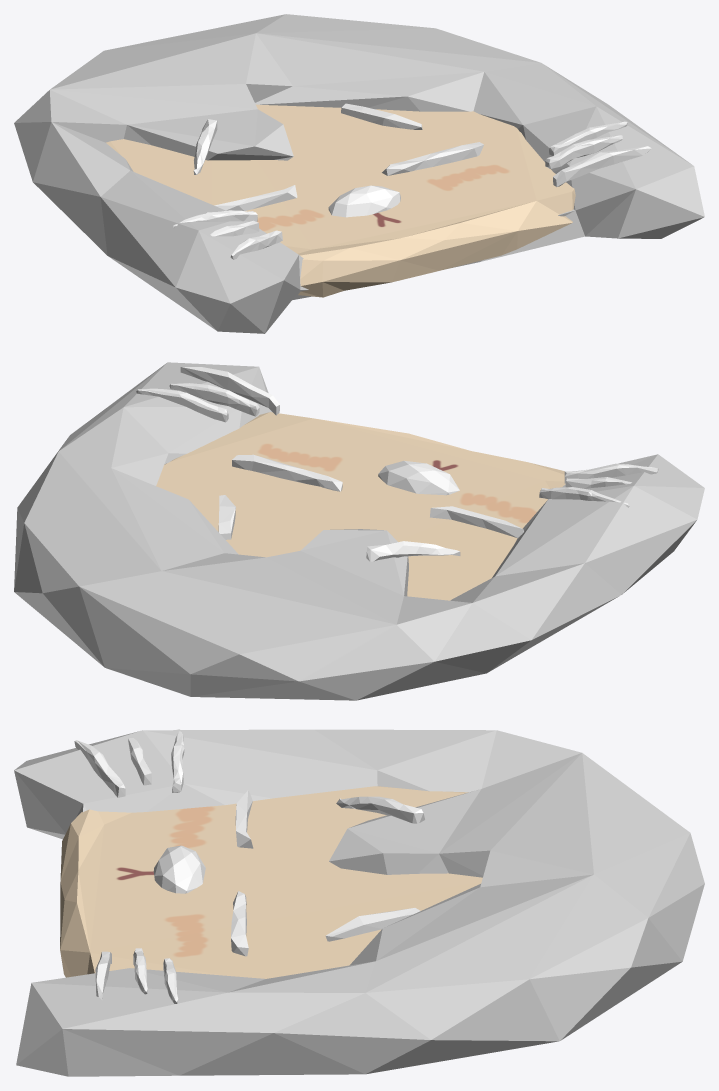
Rendered from jumang.gltf.
3 views of the same model, one above another, from view 1: azimuth 30°, elevation 25°; view 2: azimuth 150°, elevation 25°; view 3: azimuth 270°, elevation 25° (orthographic). The views are drawn at different scales.
Visible parts, largest first — view 1: 円柱, 立方体, 球, 立方体.006, 立方体.010, 立方体.004, 立方体.009, 立方体.007, 立方体.008, 立方体.013, 立方体.005, 立方体.011 (+1 smaller); view 2: 円柱, 立方体, 球, 立方体.006, 立方体.010, 立方体.009, 立方体.007, 立方体.005, 立方体.008, 立方体.011, 立方体.013, 立方体.004 (+1 smaller); view 3: 円柱, 立方体, 球, 立方体.005, 立方体.004, 立方体.011, 立方体.006, 立方体.007, 立方体.013, 立方体.012, 立方体.010.
Part boxes in pixels (box(x1,y1,x2,y2)): 円柱: box(14, 14, 704, 333); 立方体: box(106, 104, 575, 297); 球: box(328, 185, 400, 217); 立方体.006: box(382, 142, 483, 175); 立方体.010: box(553, 146, 651, 186); 立方体.004: box(341, 103, 422, 129); 立方体.009: box(545, 135, 622, 168); 立方体.007: box(214, 185, 297, 210); 立方体.008: box(549, 121, 627, 155); 立方体.013: box(173, 210, 257, 228); 立方体.005: box(193, 119, 217, 174); 立方体.011: box(230, 230, 282, 259); 円柱: box(14, 362, 704, 700); 立方体: box(156, 412, 565, 600); 球: box(378, 460, 459, 495); 立方体.006: box(232, 454, 342, 491); 立方体.010: box(180, 367, 279, 415); 立方体.009: box(169, 383, 259, 416); 立方体.007: box(430, 506, 523, 537); 立方体.005: box(366, 541, 460, 561); 立方体.008: box(136, 388, 228, 422); 立方体.011: box(564, 463, 658, 483); 立方体.013: box(539, 487, 629, 507); 立方体.004: box(218, 495, 235, 539); 円柱: box(14, 729, 704, 1076); 立方体: box(60, 786, 482, 978); 球: box(153, 845, 205, 893); 立方体.005: box(336, 796, 424, 823); 立方体.004: box(325, 908, 420, 941); 立方体.011: box(74, 740, 125, 797); 立方体.006: box(231, 891, 248, 956); 立方体.007: box(235, 790, 253, 848); 立方体.013: box(171, 729, 184, 792); 立方体.012: box(128, 738, 151, 785); 立方体.010: box(95, 951, 111, 999).
Size of the model in its own units: 5.91 by 0.8841 by 5.84.
Materials: 4 (1 with a texture image).
